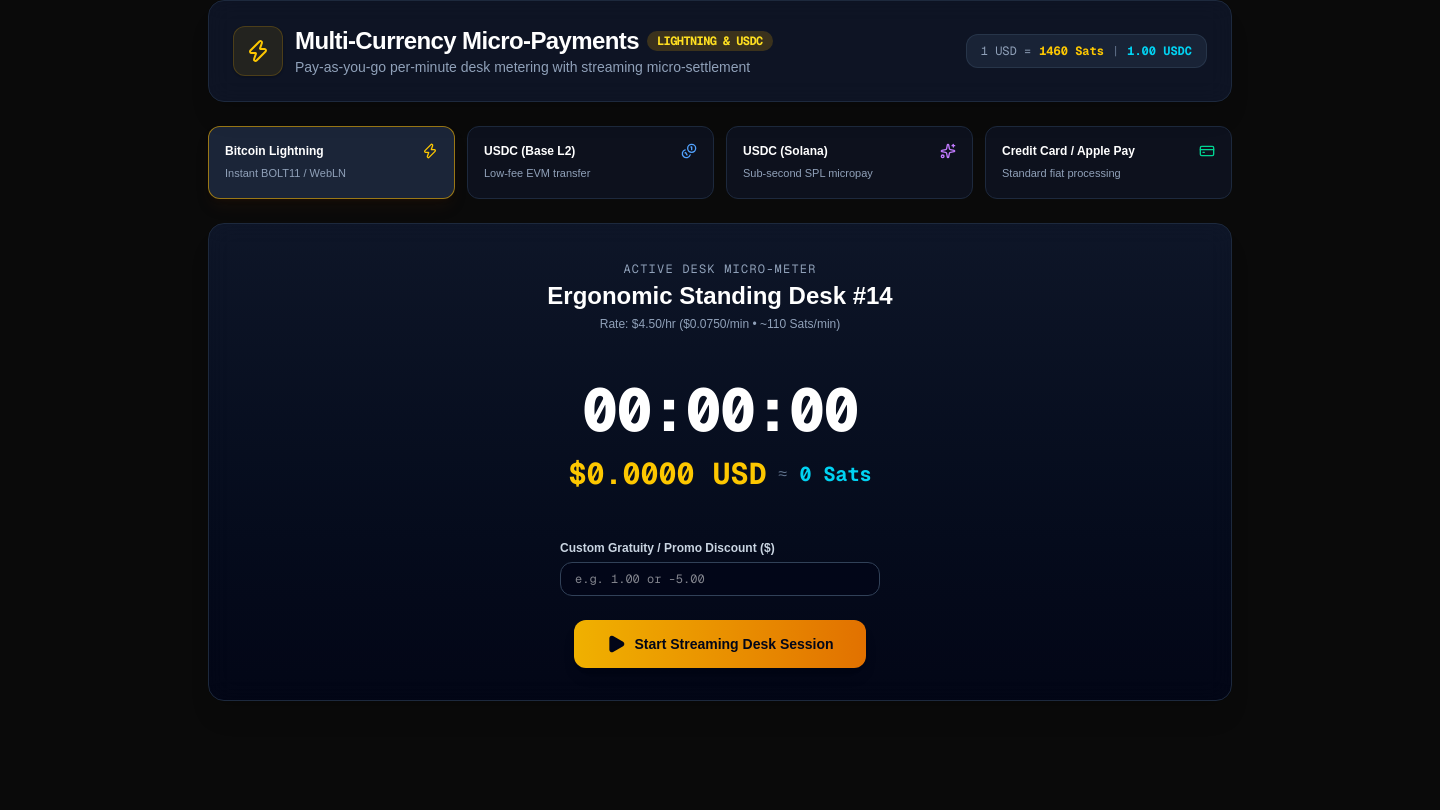
MultiCurrencyDeskCheckout - Satoshi Validation (#6156) › MultiCurrencyDeskCheckout Component UI behavior › clears validation error and enables button when a valid adjustment is provided
// Enter negative discount first
In the number field with test id "custom-adjustment-input": (720, 578) [560,562,880,596], type "-10.00"
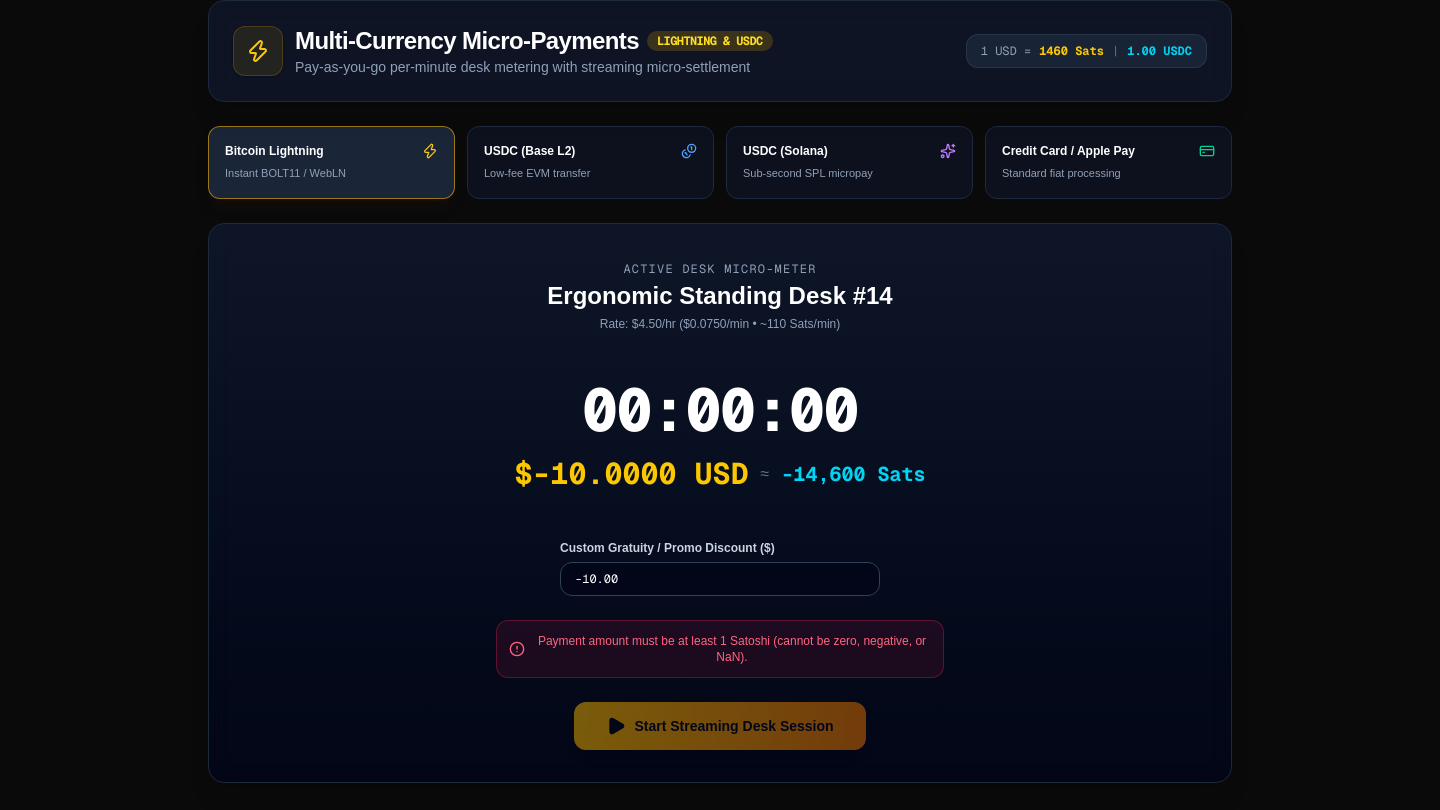
Expected: the message "Payment amount must be at least 1 Satoshi (cannot be zero, negative, or NaN)." is shown, [496,620,944,678]
// Fix with a positive gratuity
Replace the text in the number field with test id "custom-adjustment-input" with "2.50": (720, 578) [560,562,880,596]
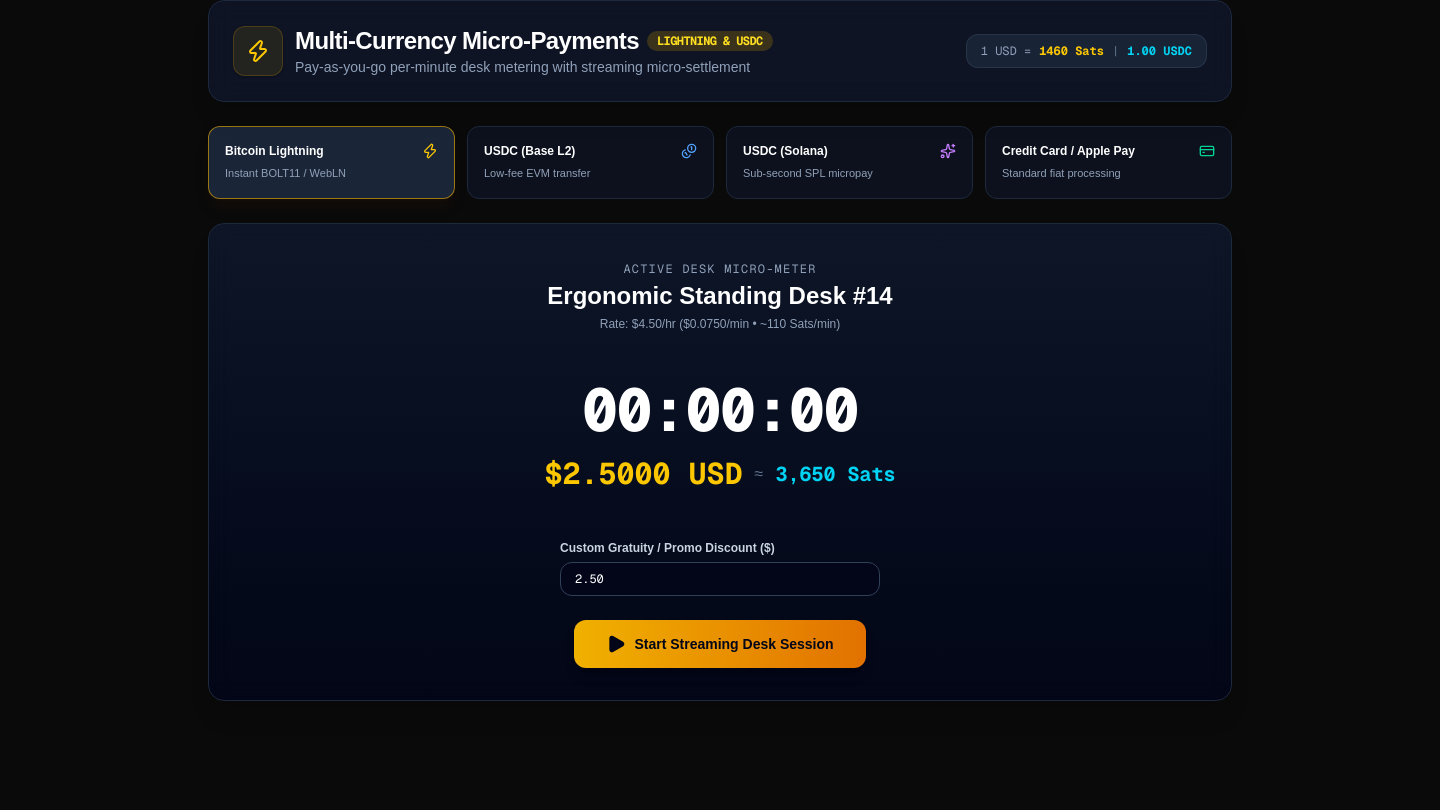
Expected: the message with test id "satoshi-validation-error" is gone
Expected: the button with test id "start-session-button" is enabled, [574,620,866,668]
